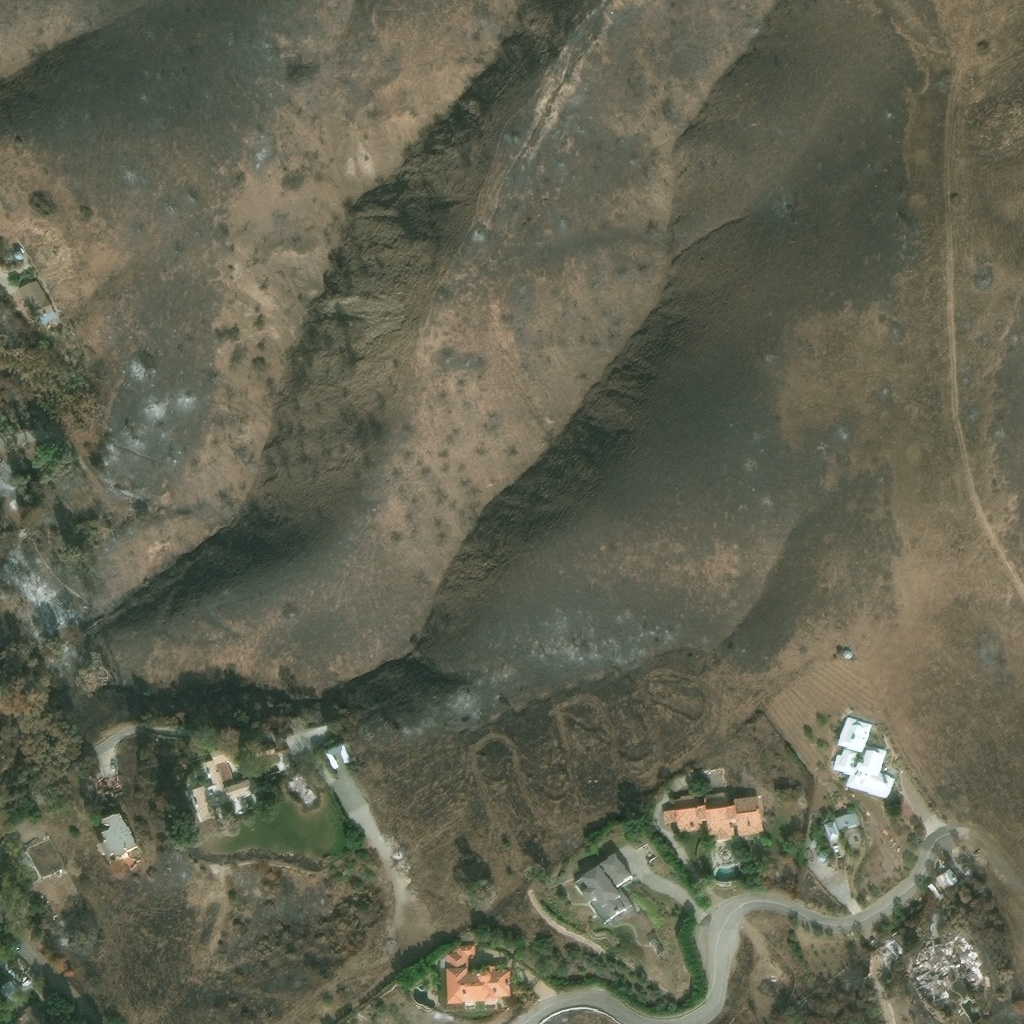0 no-damage: (831, 712, 894, 798), (662, 788, 763, 839), (572, 850, 633, 924), (445, 942, 510, 1008), (18, 277, 50, 311), (929, 866, 958, 891), (834, 811, 858, 828), (647, 935, 663, 953), (823, 819, 837, 836), (3, 249, 17, 261), (840, 647, 851, 657), (815, 851, 825, 860), (809, 837, 817, 847), (13, 248, 23, 256), (831, 843, 839, 851), (828, 837, 836, 843), (852, 833, 858, 840)
1 minor-damage: (190, 744, 257, 820), (324, 748, 339, 767), (338, 741, 351, 762)
2 major-damage: (97, 809, 137, 855)
3 destroyed: (910, 932, 982, 1000), (878, 932, 906, 961), (0, 976, 21, 999), (99, 768, 120, 789), (58, 912, 76, 926), (289, 772, 304, 787), (300, 784, 313, 798)
